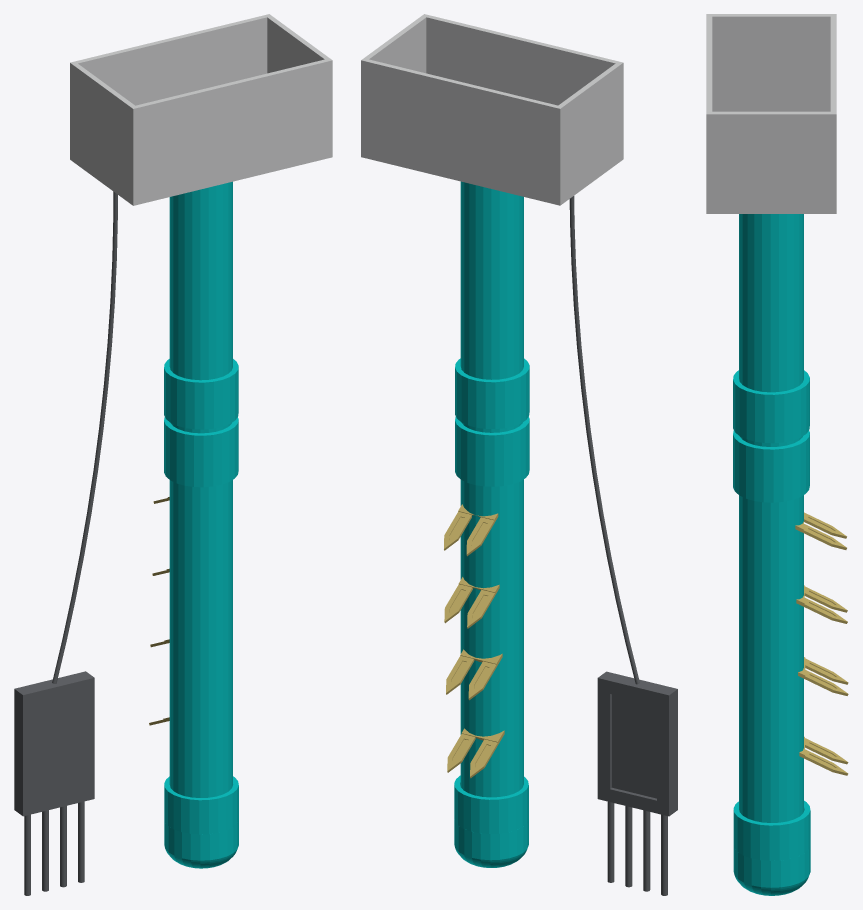
Rendered from rice-field.glb.
3 views of the same model, side by side, from view 1: azimuth 30°, elevation 25°; view 2: azimuth 150°, elevation 25°; view 3: azimuth 270°, elevation 25° (orthographic). The views are drawn at different scales.
Visible parts, largest first — view 1: white_15, turquoise_5, dark_2, turquoise_3, turquoise_0, turquoise_6, turquoise_4, dark_1; view 2: white_15, turquoise_5, dark_2, turquoise_3, turquoise_0, turquoise_6, turquoise_4, dark_1, gold_8, gold_7, gold_9, gold_10; view 3: white_15, turquoise_5, turquoise_3, turquoise_0, turquoise_6, turquoise_4, gold_8, gold_9, gold_10, gold_7.
Boxes of the visible parts, x1,y1,x2,y2 form: white_15: (70, 14, 332, 205); turquoise_5: (169, 480, 232, 797); dark_2: (14, 671, 94, 895); turquoise_3: (169, 181, 232, 380); turquoise_0: (164, 776, 238, 868); turquoise_6: (164, 417, 238, 487); turquoise_4: (164, 359, 238, 429); dark_1: (52, 191, 117, 683); white_15: (361, 14, 623, 205); turquoise_5: (460, 479, 523, 797); dark_2: (597, 671, 677, 895); turquoise_3: (460, 181, 523, 379); turquoise_0: (454, 775, 528, 867); turquoise_6: (455, 416, 529, 486); turquoise_4: (455, 358, 529, 428); dark_1: (569, 196, 639, 684); gold_8: (444, 584, 495, 628); gold_7: (444, 511, 494, 556); gold_9: (447, 734, 498, 778); gold_10: (446, 655, 496, 700); white_15: (706, 14, 836, 213); turquoise_5: (739, 495, 803, 822); turquoise_3: (739, 214, 803, 392); turquoise_0: (733, 800, 810, 895); turquoise_6: (733, 430, 809, 502); turquoise_4: (733, 370, 809, 443); gold_8: (803, 586, 847, 623); gold_9: (803, 738, 848, 775); gold_10: (804, 658, 848, 695); gold_7: (802, 512, 846, 549).
Size of the model in its own units: 2826 by 7653 by 1202.
